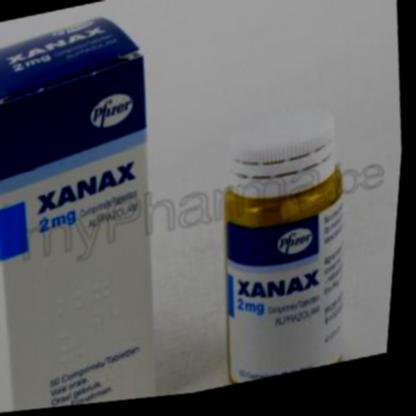jar: (224, 112, 343, 382)
